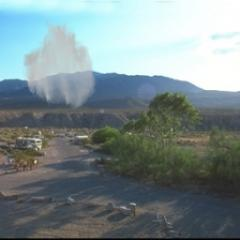smoke: (21, 18, 96, 110)
